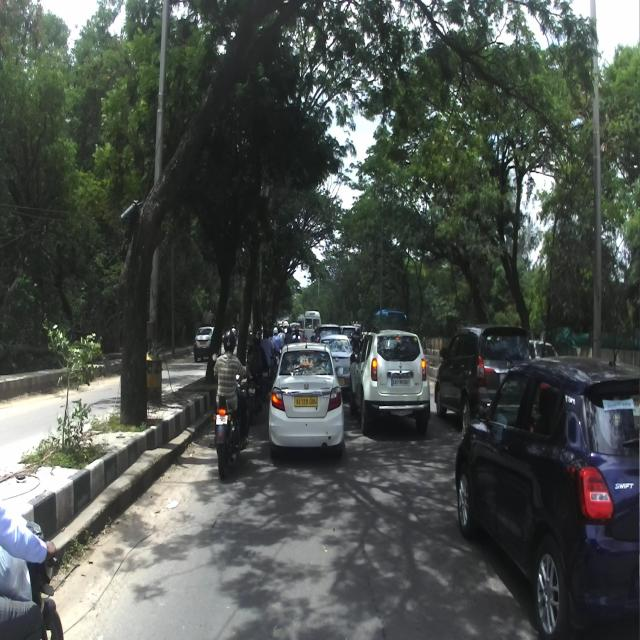car: (454, 344, 640, 639), (434, 321, 530, 429), (348, 326, 430, 435), (268, 342, 344, 459), (318, 335, 355, 396)
motorcycle: (212, 352, 250, 478)
